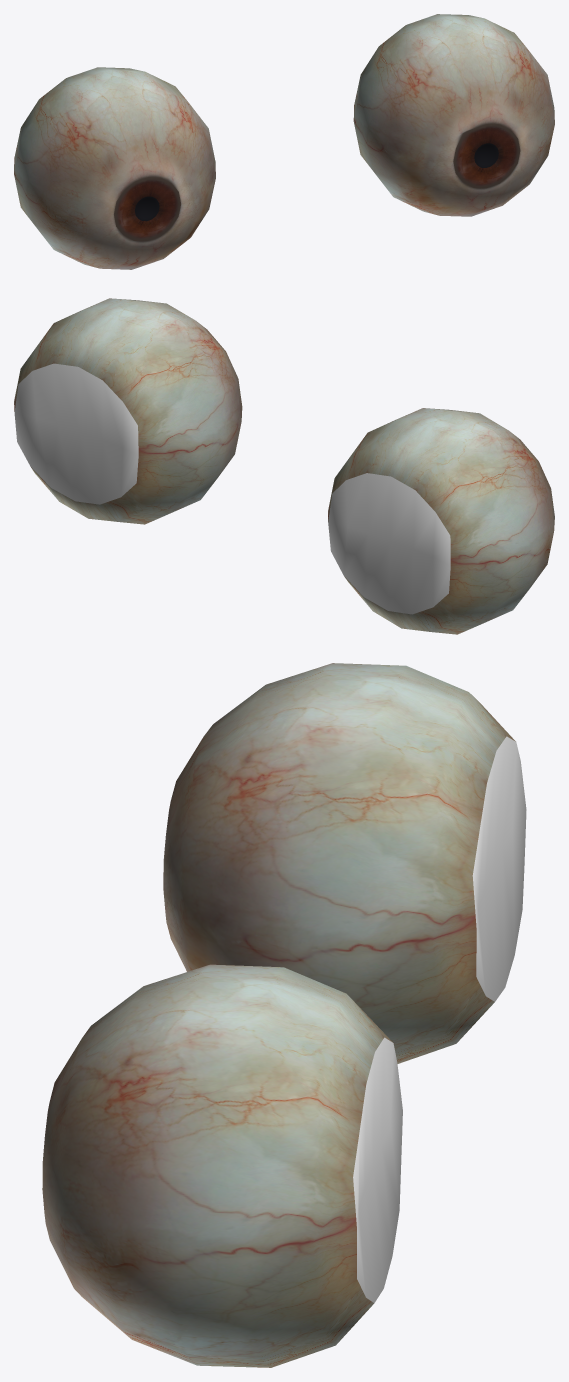
Rendered from eyeballs.fbx.
3 renders of one model, top to bottom at view 1: azimuth 30°, elevation 25°; view 2: azimuth 150°, elevation 25°; view 3: azimuth 270°, elevation 25°, orthographic. The views are drawn at different scales.
Visible parts, largest first — view 1: polySurface24, polySurface23; view 2: polySurface23, polySurface24; view 3: polySurface23, polySurface24.
Boxes of the visible parts, x1=… form: polySurface24: x1=14, y1=67, x2=215, y2=269; polySurface23: x1=353, y1=14, x2=554, y2=216; polySurface23: x1=14, y1=298, x2=242, y2=524; polySurface24: x1=328, y1=408, x2=554, y2=634; polySurface23: x1=42, y1=964, x2=402, y2=1367; polySurface24: x1=163, y1=663, x2=526, y2=1063.
Size of the model in its own units: 10.02 by 3.62 by 4.33.
